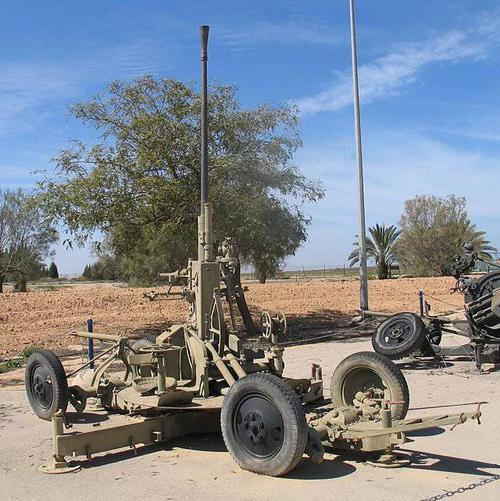MIL_SPG: (25, 26, 480, 476)
